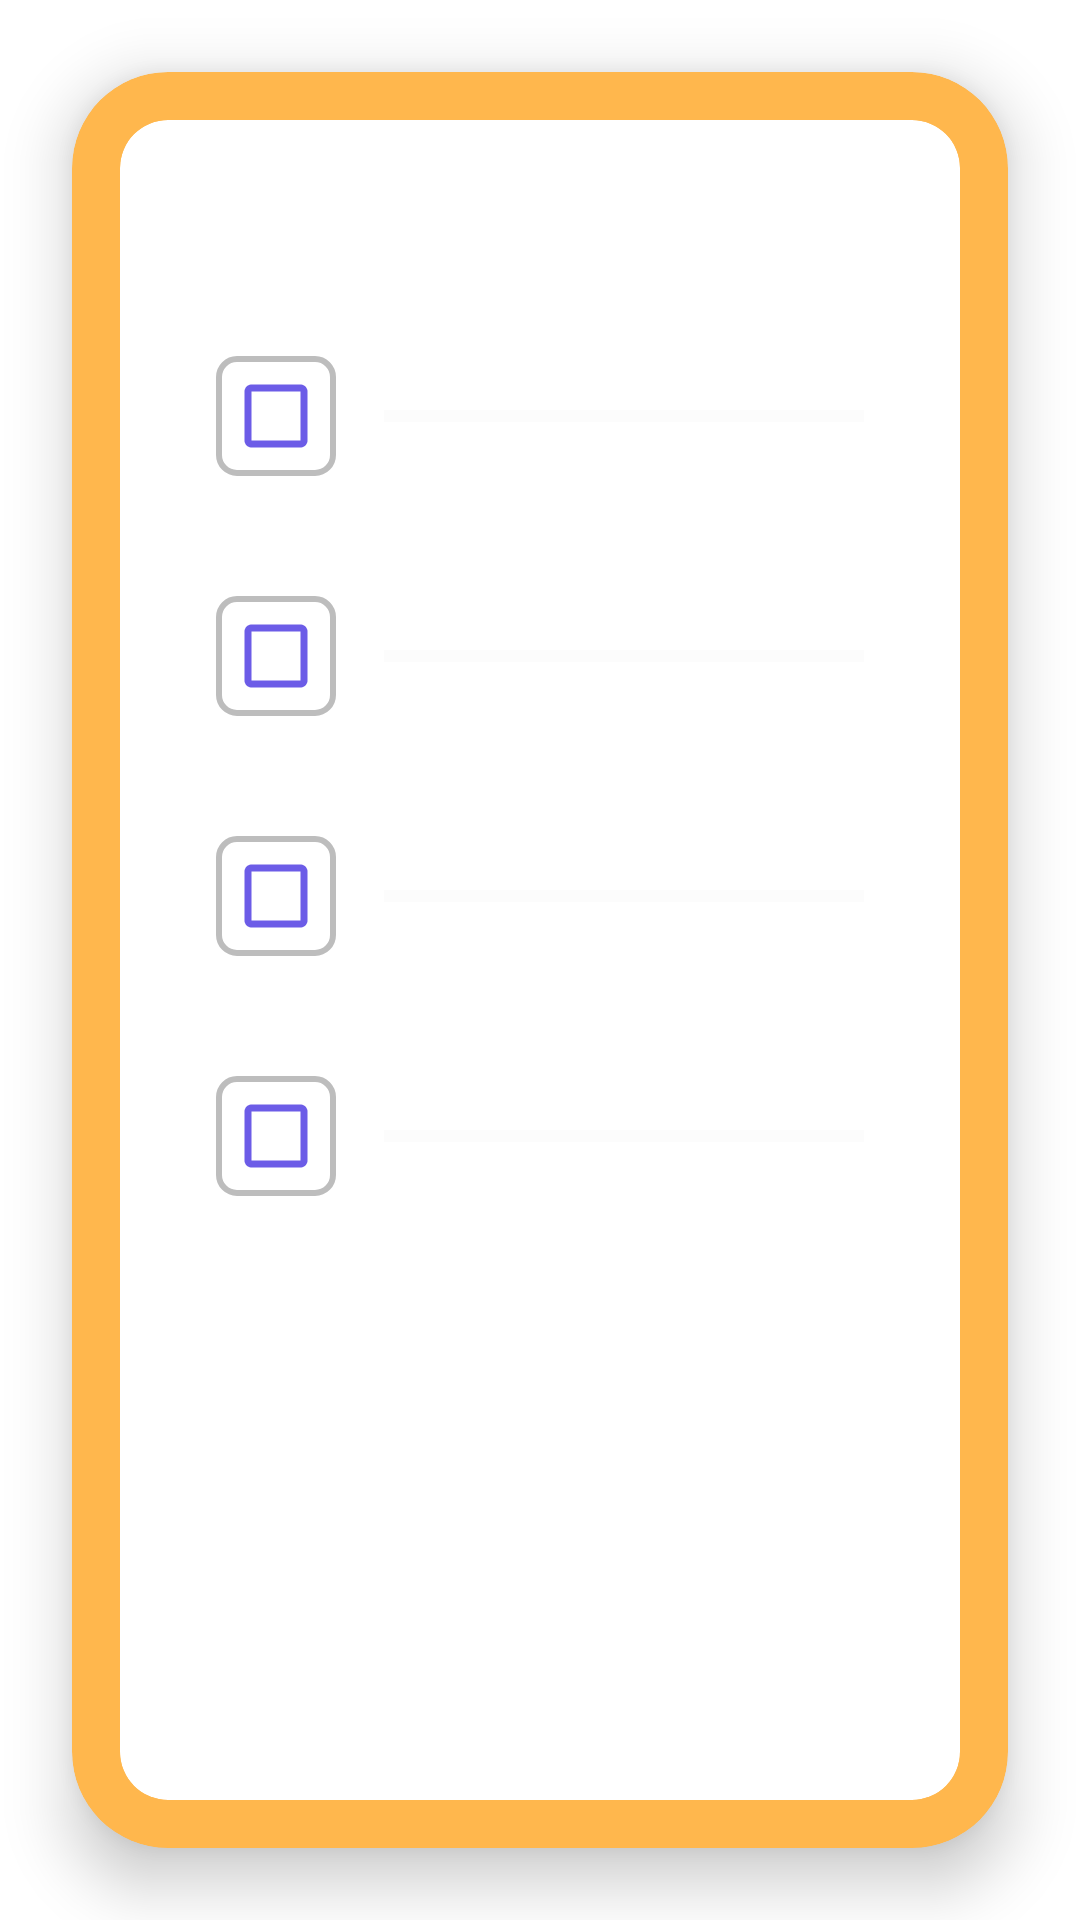

Screen size 1080x1920. Icon name, then its center in pixels as [x,y]:
Check 1: [276,416]
Check 2: [276,656]
Check 3: [276,896]
Check 4: [276,1136]
